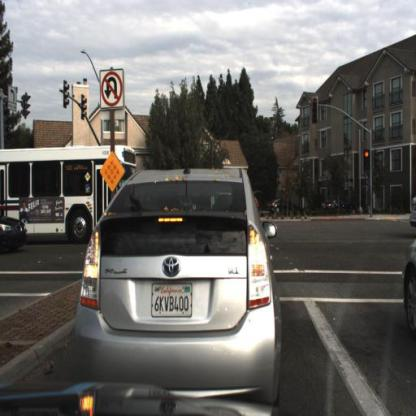car: (69, 156, 282, 398), (1, 140, 143, 263), (397, 216, 416, 351), (317, 194, 344, 220)
trafficLight-Red: (310, 91, 320, 127), (363, 148, 372, 174)
truck: (2, 143, 138, 246)
